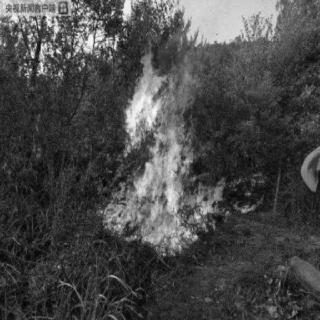Fire: (101, 18, 232, 262), (227, 171, 270, 215)
other: (298, 131, 320, 197)
